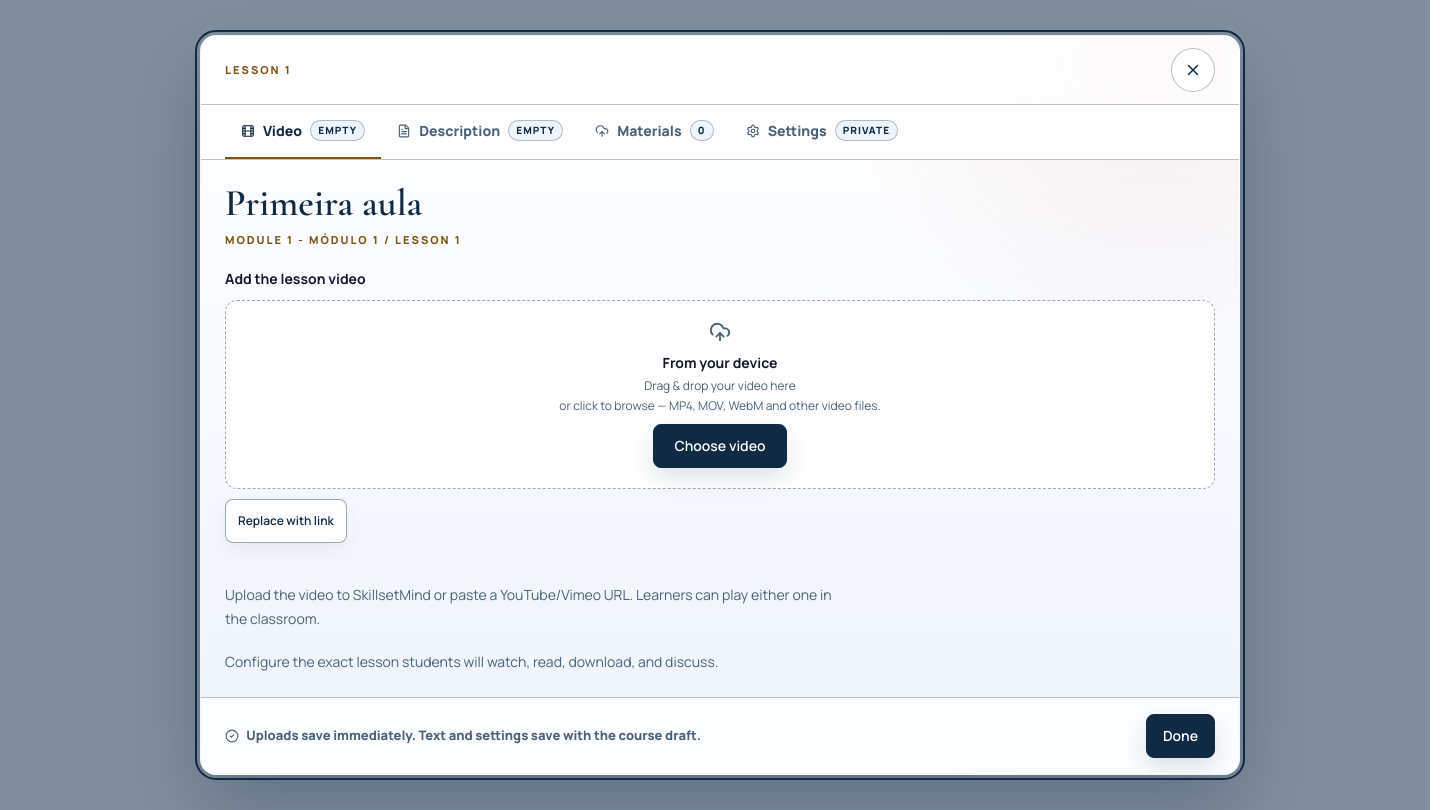
Test: LessonContentModal — dias de espera › esconde os dias de espera quando a estrategia do curso nao os usa
This screenshot has width=1440, height=810.
Click the button "Settings Private".
click(822, 132)  # box [730,105,914,159]
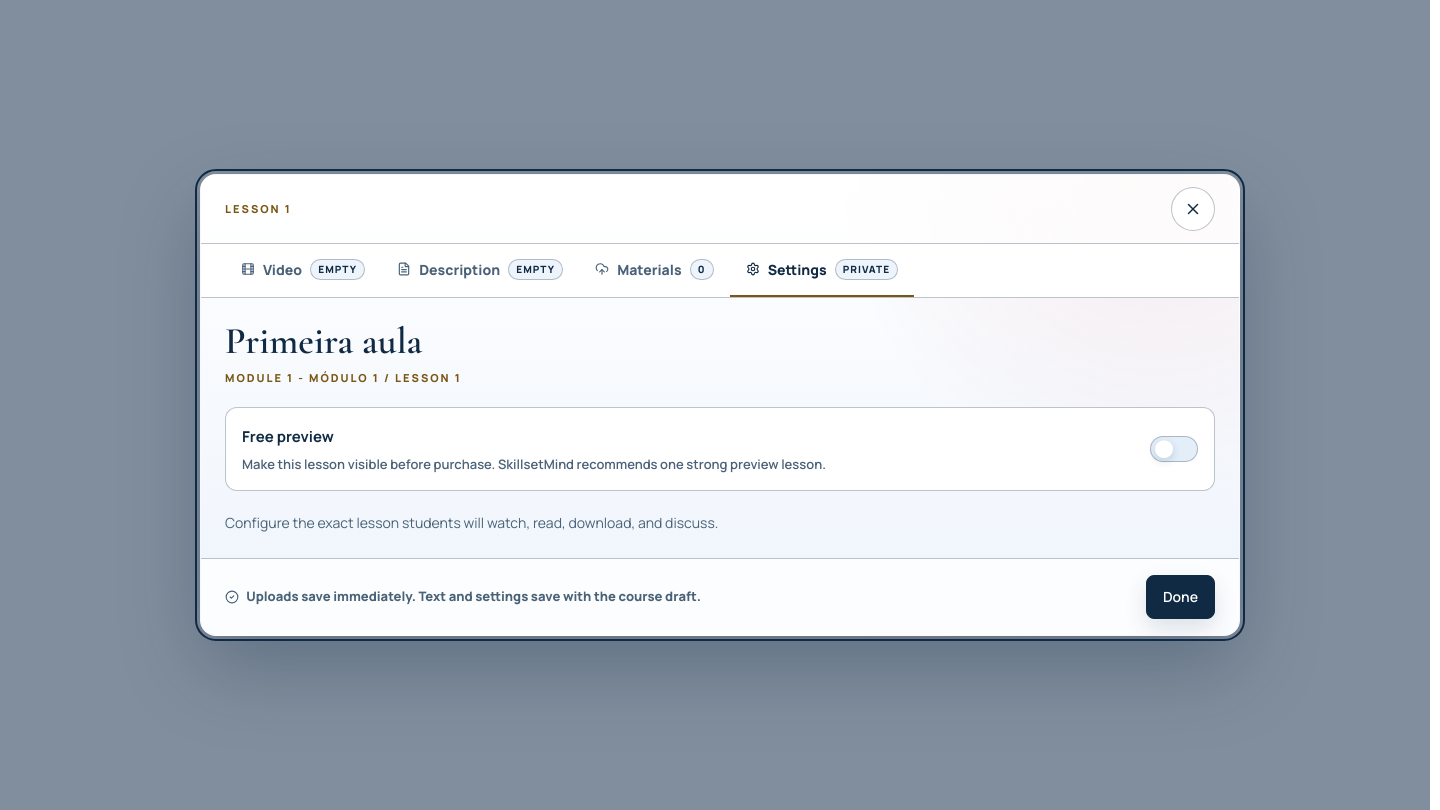
Check: the button named "Use this lesson as the free preview" is shown, box [1150,436,1198,462]
